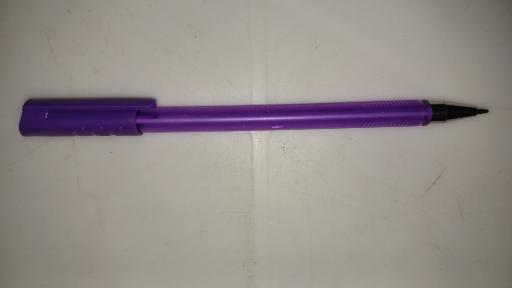pen: (22, 96, 489, 138)
